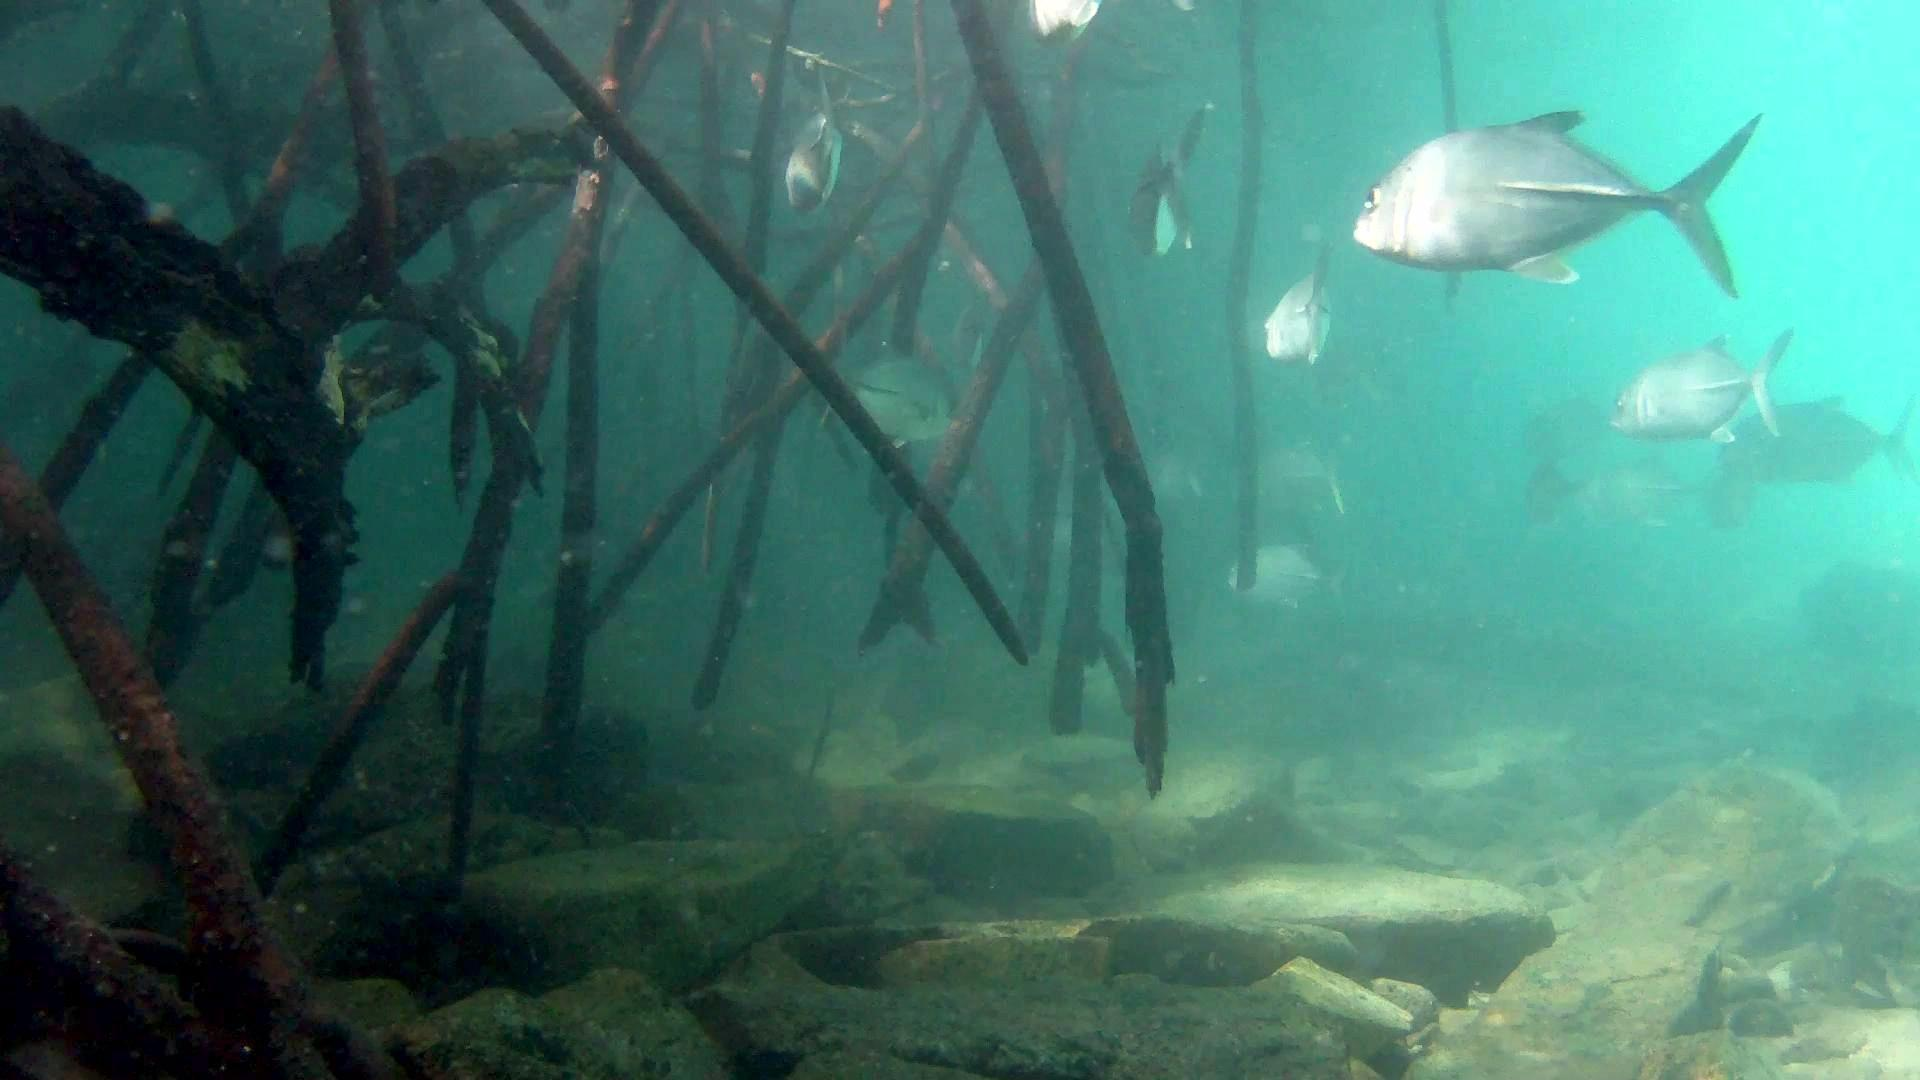caranx: (1337, 93, 1770, 307)
